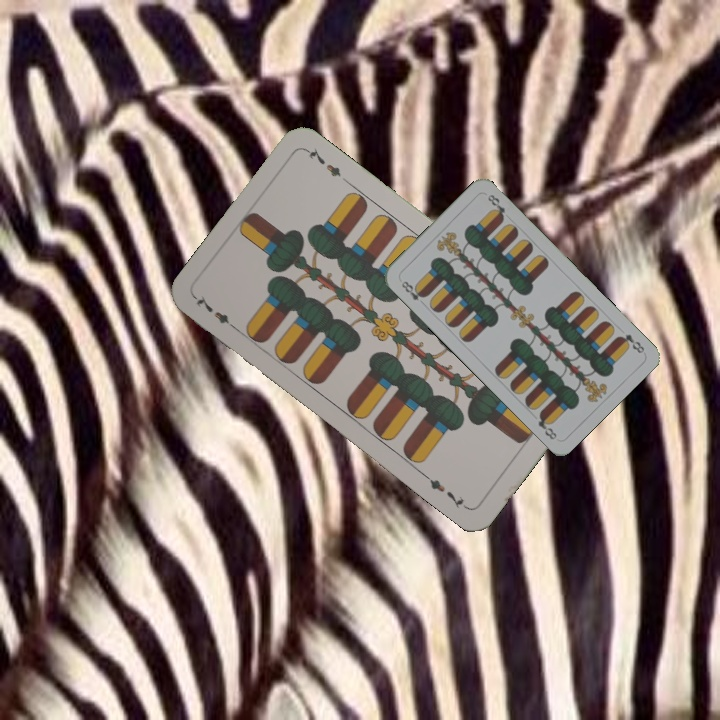E7: (191, 293, 241, 334)
E8: (397, 277, 428, 308), (614, 330, 647, 356)
